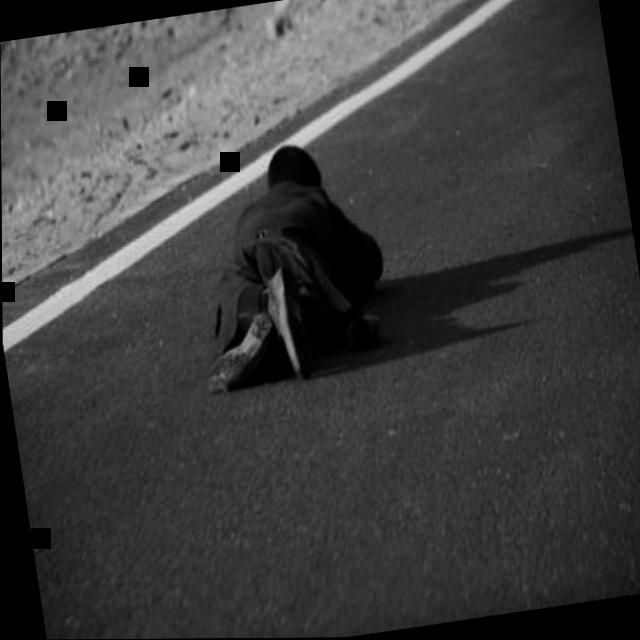Fall-Detected: (172, 118, 415, 400)
